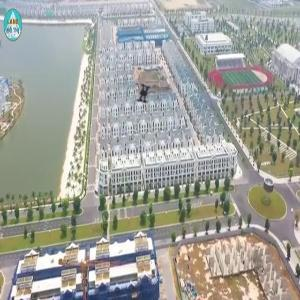drone: (121, 69, 170, 118)
